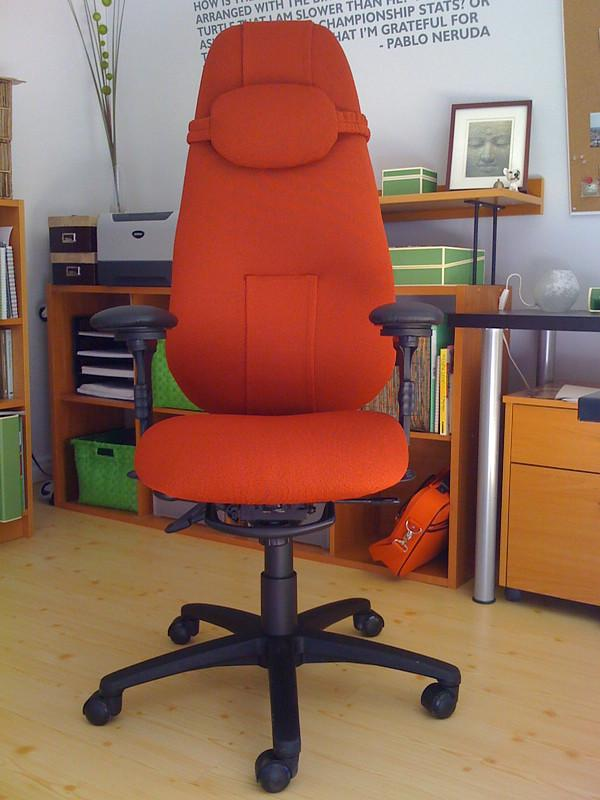chair: (82, 20, 462, 793)
